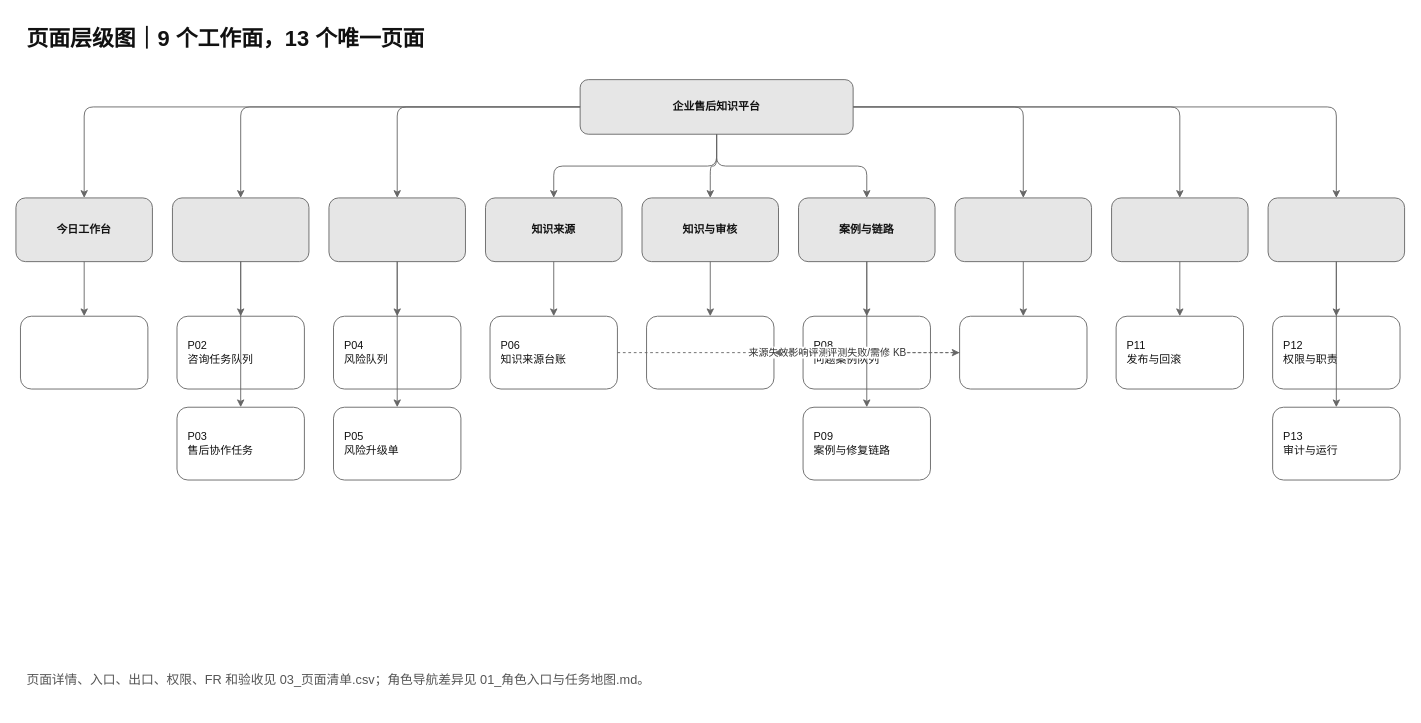
Some shapes in this 1421 by 723 pixel diagram are drawn without their labels. The box of each missing label's shape, as (x1, y1, x2, y2) in pixels:
P01 今日工作台: (20, 315, 148, 389)
P07 知识与业务审核: (646, 315, 774, 389)
P10 评测中心: (959, 315, 1087, 389)
一线售后辅助: (172, 197, 309, 262)
发布与回滚: (1111, 197, 1248, 262)
权限与审计: (1267, 197, 1405, 262)
评测中心: (954, 197, 1092, 262)
风险升级: (328, 197, 465, 262)
